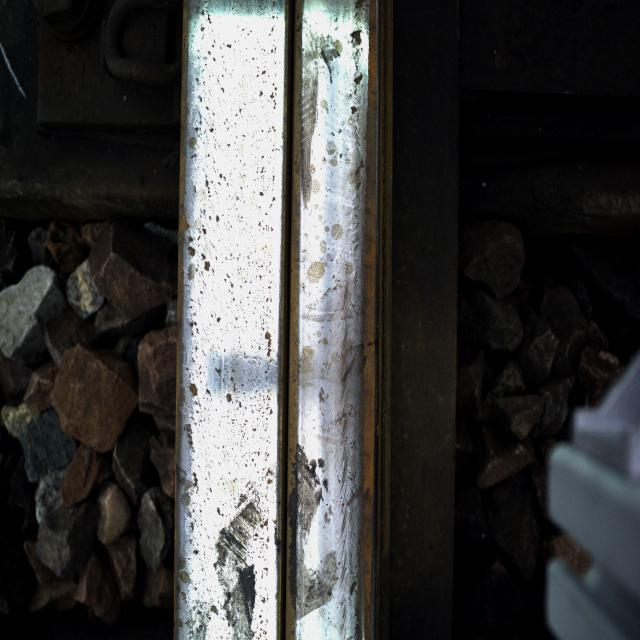scar: (188, 10, 278, 636), (292, 11, 358, 634)
